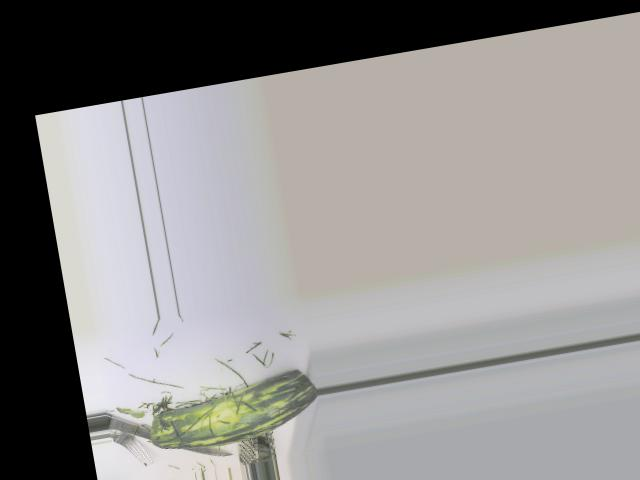cucumber: (142, 366, 322, 456)
